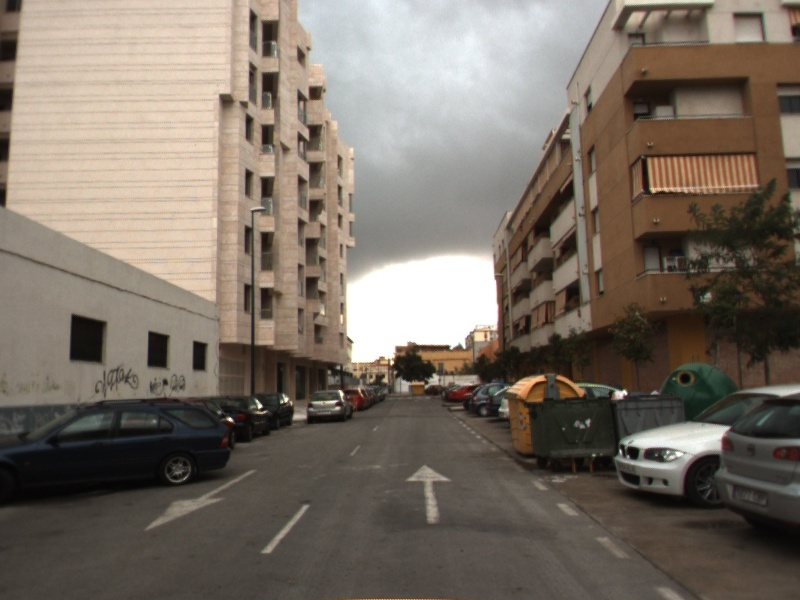STRAIGHT: (403, 461, 457, 527)
